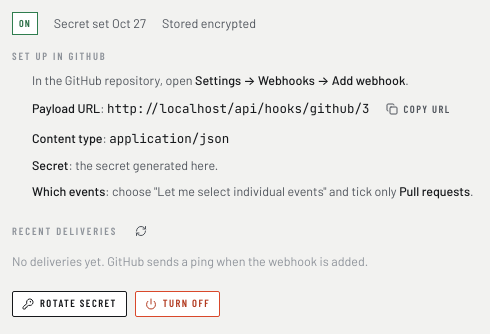
Test: GitHubHookPanel secret › turns the webhook off after confirming
Click the button "Turn off" at (177, 304), box x1=135 y1=290 x2=220 y2=316
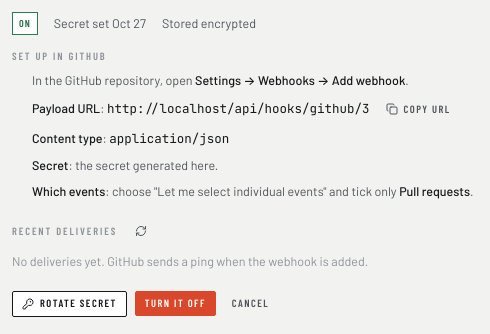
Click the button "Turn it off" at (175, 304), box x1=135 y1=291 x2=216 y2=316
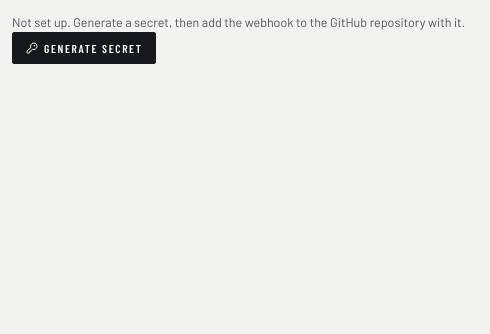
Check: the button "Generate secret" is shown, box x1=12 y1=32 x2=156 y2=64
